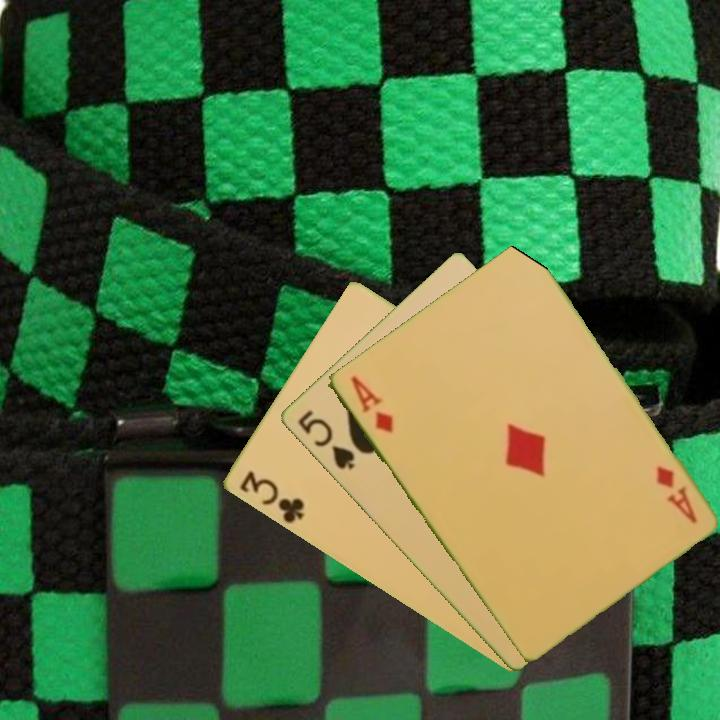3c: (235, 467, 307, 527)
5s: (293, 406, 357, 474)
Ad: (346, 371, 396, 436), (652, 462, 700, 527)
